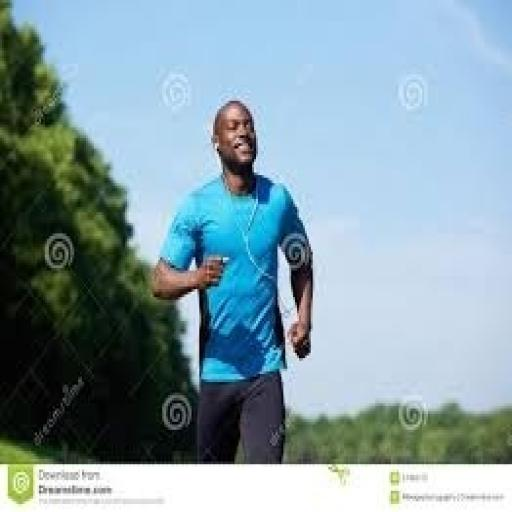running: (148, 96, 314, 464)
